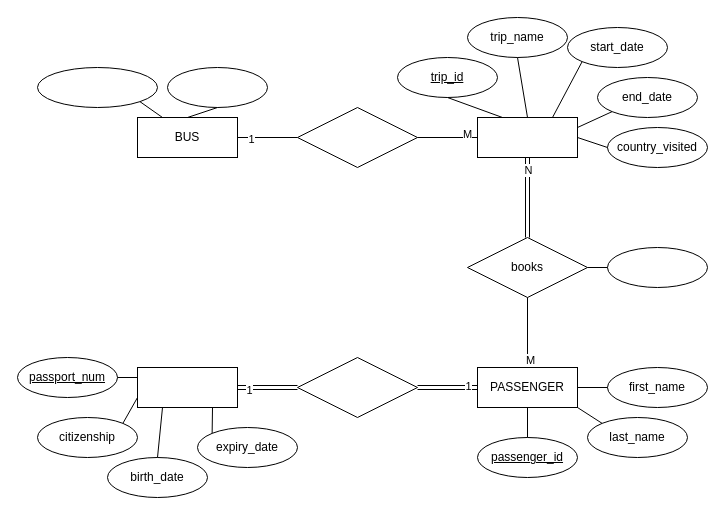
Image size: 725x515. Some labels were removed from this diagram. Here are the shapes that lost their labels. From the top down, the centre of each, then its label:
At pixel 97 87: "license_plate_num".
At pixel 217 87: "capacity".
At pixel 357 137: "assigned to".
At pixel 527 137: "BUS TRIP".
At pixel 657 267: "trip_price".
At pixel 187 387: "PASSPORT".
At pixel 357 387: "has".
